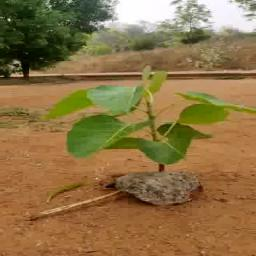LEAVS: (30, 61, 242, 172)
